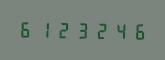four: (107, 20, 124, 40)
one: (35, 19, 52, 39)
six: (17, 18, 34, 39), (125, 20, 142, 41)
three: (71, 19, 88, 40)
two: (53, 19, 70, 39), (89, 20, 106, 40)
